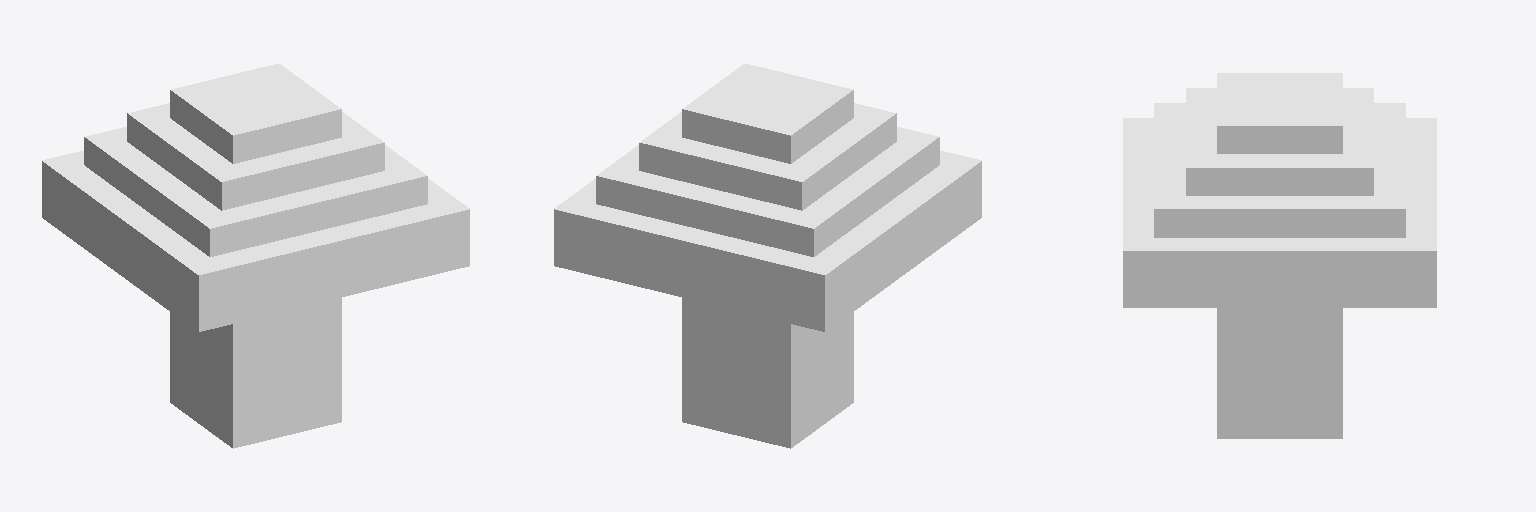
Rendered from mushroom1.obj.
3 renders of one model, left to right at view 1: azimuth 30°, elevation 25°; view 2: azimuth 150°, elevation 25°; view 3: azimuth 270°, elevation 25°, orthographic.
Parts seen in each view (by area): view 1: object 1; view 2: object 1; view 3: object 1.
Boxes of the visible parts, <box> form: object 1: <box>42,63,469,448</box>; object 1: <box>554,63,981,448</box>; object 1: <box>1123,73,1436,438</box>.
Bounding box in the file's own units: 1 × 1.1 × 1.